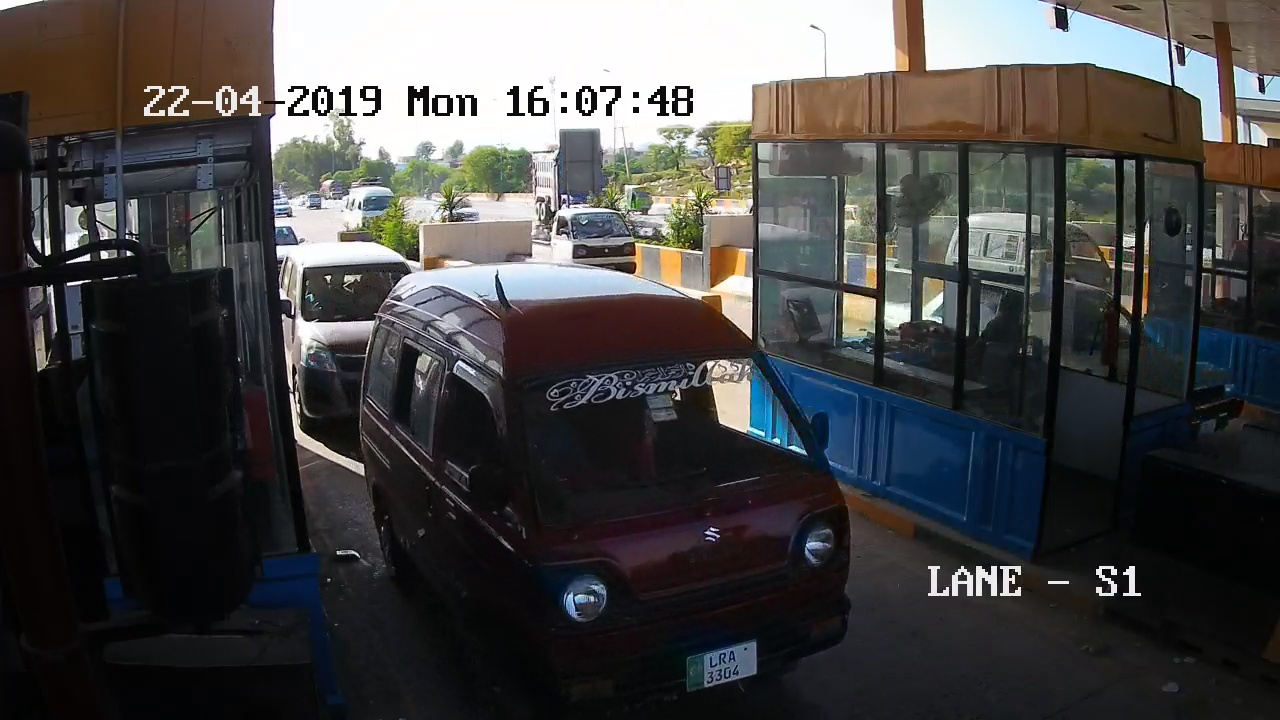Number Plate (Car): (684, 644, 761, 686)
